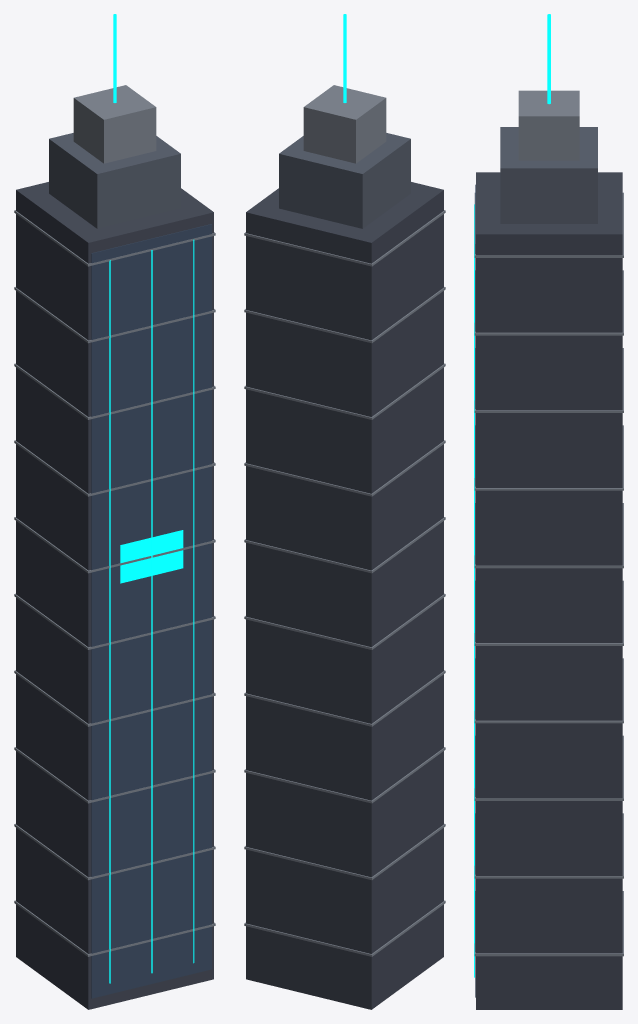
The model's file is CORP_BLD_Highrise_LG.glb.
The picture shows the model from 3 angles, left to right: view 1: azimuth 30°, elevation 25°; view 2: azimuth 150°, elevation 25°; view 3: azimuth 270°, elevation 25°; orthographic projection.
Parts seen in each view (by area): view 1: CORP_BLD_Highrise_LG; view 2: CORP_BLD_Highrise_LG; view 3: CORP_BLD_Highrise_LG.
Part boxes in pixels (box(x1,y1,x2,y2)): CORP_BLD_Highrise_LG: box(14, 14, 215, 1009); CORP_BLD_Highrise_LG: box(244, 14, 445, 1009); CORP_BLD_Highrise_LG: box(474, 14, 623, 1009).
Size of the model in its own units: 12.2 by 87 by 12.24.
